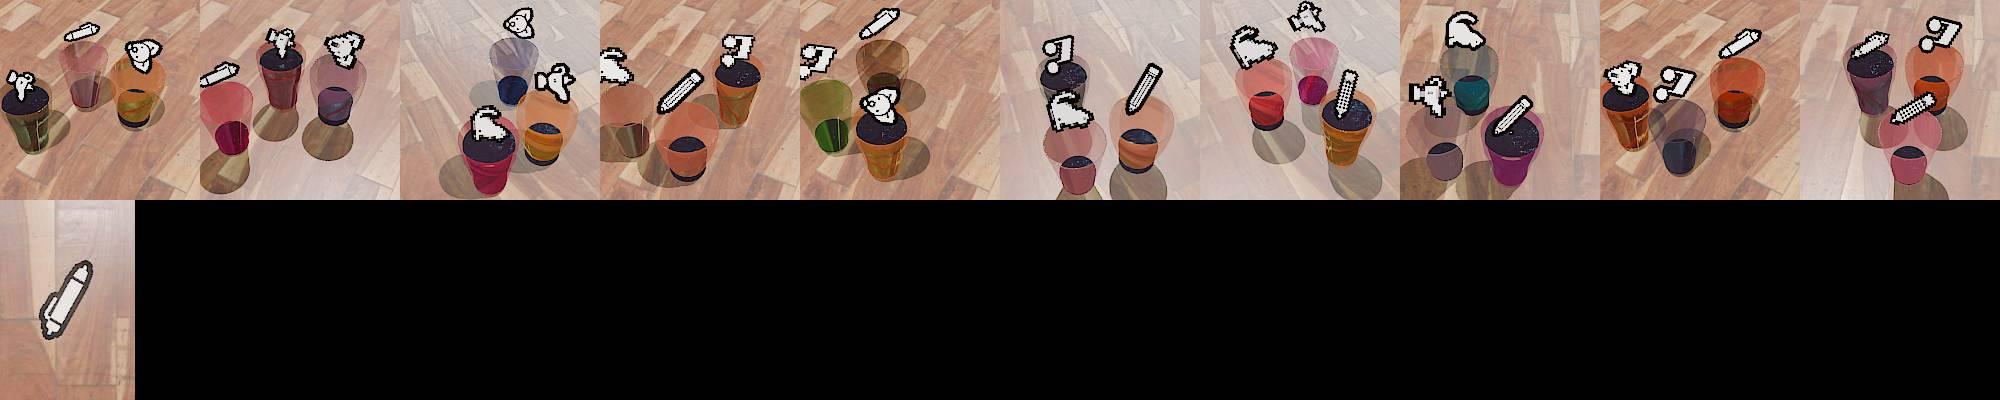icon: (38, 259, 96, 341), (656, 66, 704, 116), (1230, 24, 1278, 69), (1045, 90, 1094, 131), (1125, 62, 1162, 117), (1408, 75, 1452, 117), (1492, 94, 1534, 136), (858, 84, 902, 125), (533, 62, 577, 103), (1652, 66, 1698, 104), (1443, 10, 1485, 51), (1918, 15, 1962, 54), (1890, 90, 1937, 125), (469, 103, 510, 143), (1329, 69, 1358, 122), (324, 29, 365, 68), (1602, 60, 1644, 96), (598, 47, 635, 87), (858, 6, 901, 41), (1718, 27, 1763, 59), (798, 42, 837, 79), (124, 38, 163, 74), (1849, 29, 1893, 60), (1288, 1, 1327, 33), (719, 32, 756, 64), (199, 61, 240, 89), (1042, 33, 1075, 66), (265, 27, 297, 61), (503, 6, 536, 38), (6, 69, 38, 102), (62, 20, 99, 43)
